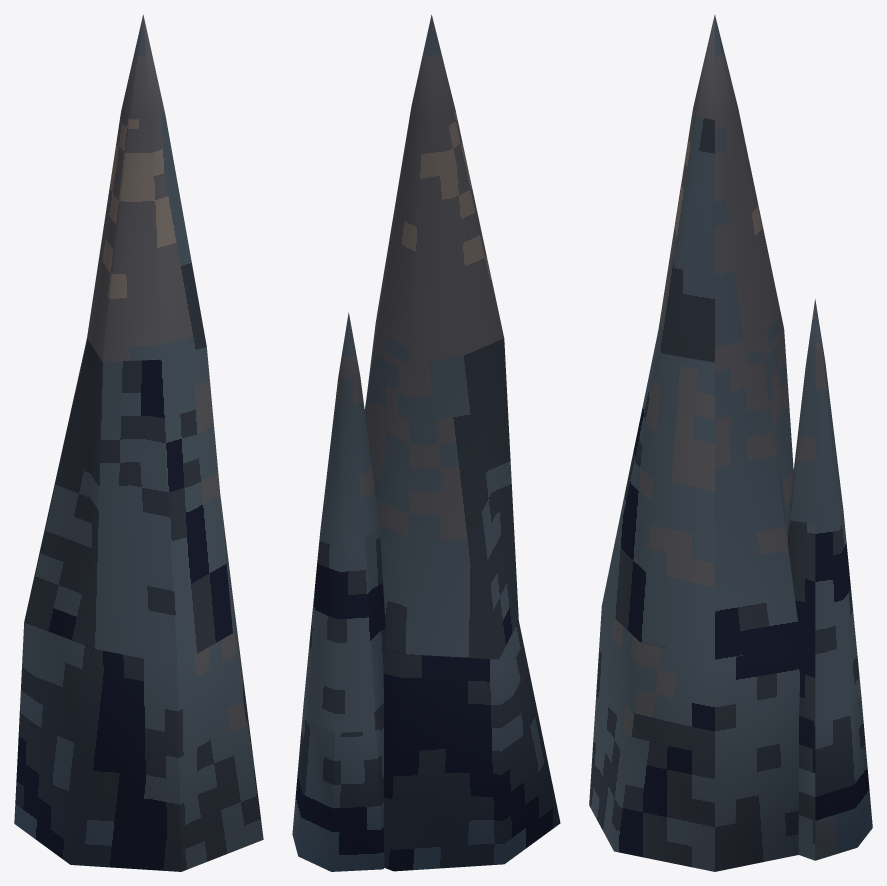
The model's file is cave.spike.glb.
3 renders of one model, left to right at view 1: azimuth 30°, elevation 25°; view 2: azimuth 150°, elevation 25°; view 3: azimuth 270°, elevation 25°, orthographic.
Visible parts, largest first — view 1: kit_dripstone; view 2: kit_dripstone; view 3: kit_dripstone.
Boxes of the visible parts, x1,y1,x2,y2 form: kit_dripstone: (14, 15, 263, 871); kit_dripstone: (292, 15, 560, 871); kit_dripstone: (589, 14, 872, 871).
Size of the model in its own units: 0.6083 by 2.2 by 0.704.
1 material, 1 textured.
